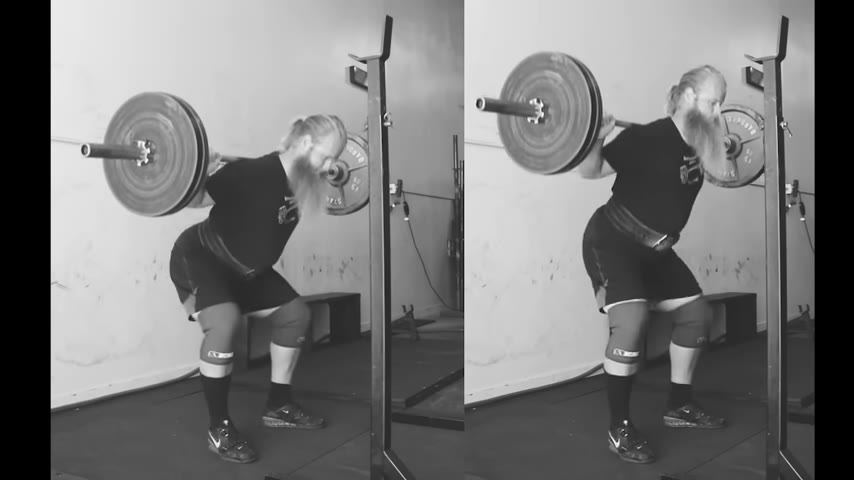barbell_plate_side: (472, 45, 569, 184), (74, 90, 158, 222), (714, 58, 783, 189)
